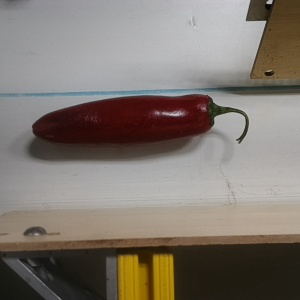Cut Point: (194, 93, 220, 134)
